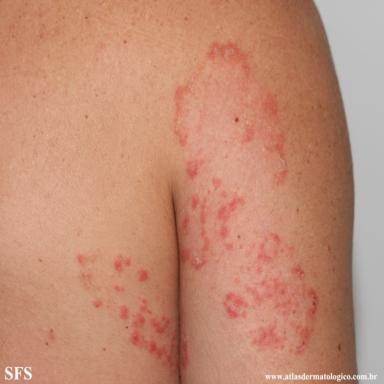Tinea-Corporis: (175, 42, 318, 355), (77, 248, 189, 375)
